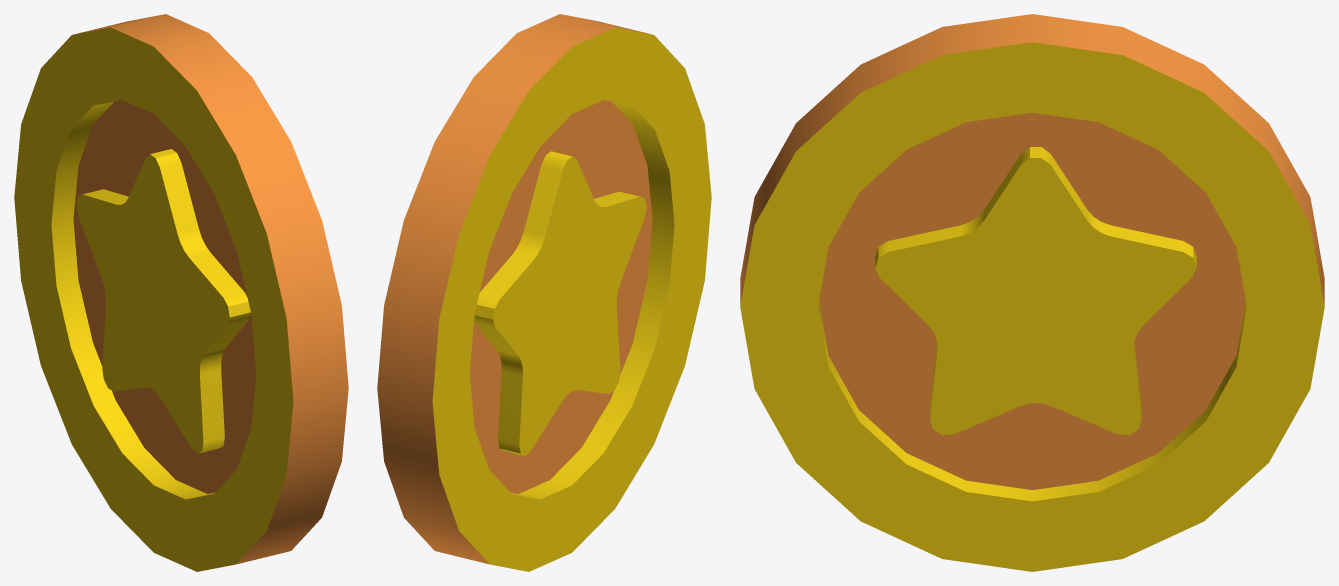
File: Coin.fbx
3 renders of one model, left to right at view 1: azimuth 30°, elevation 25°; view 2: azimuth 150°, elevation 25°; view 3: azimuth 270°, elevation 25°, orthographic. The views are drawn at different scales.
Parts seen in each view (by area): view 1: pCylinder3; view 2: pCylinder3; view 3: pCylinder3.
Part boxes in pixels (bbox=[...]): pCylinder3: bbox=[14, 14, 348, 571]; pCylinder3: bbox=[377, 14, 711, 571]; pCylinder3: bbox=[740, 14, 1324, 571].
Size of the model in its own units: 16.59 by 145 by 145.
